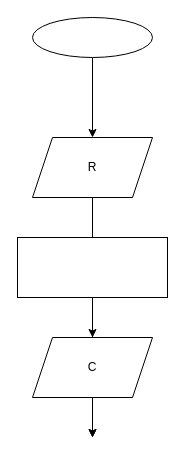
Image size: 185x463. Some labels were removed from this diagram. Each missing label, with the box of its shape:
C=2*3,14*R: (16, 236, 168, 298)
Начало: (32, 16, 152, 58)
